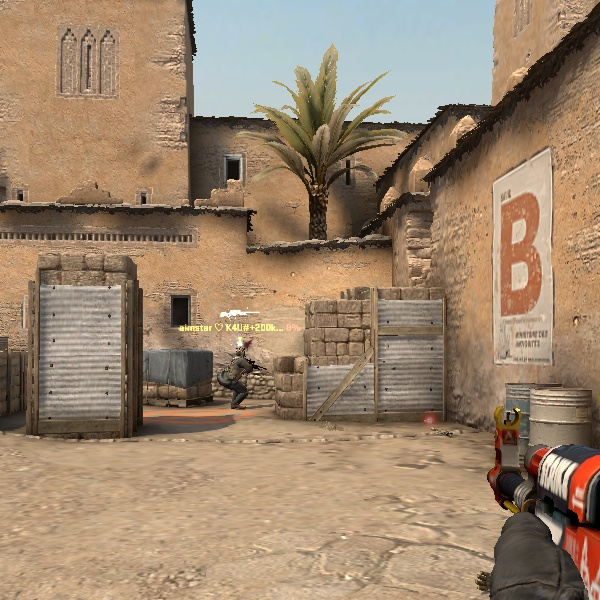t_body: (221, 342, 262, 411)
